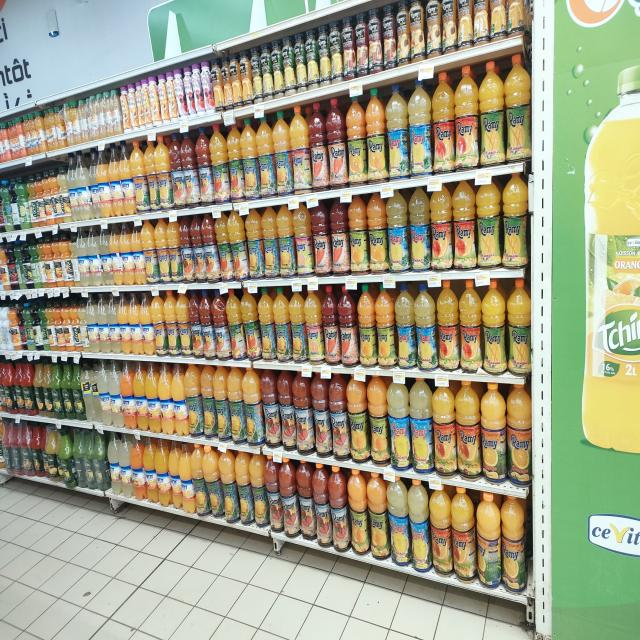ifruit_plastique: (48, 168, 62, 224), (57, 168, 71, 223), (26, 174, 40, 227), (41, 170, 54, 225), (59, 238, 73, 286), (34, 172, 46, 226), (62, 305, 76, 351), (70, 305, 83, 352), (28, 245, 42, 288), (9, 305, 22, 351), (54, 305, 66, 351), (52, 240, 64, 286), (44, 241, 56, 287), (69, 236, 80, 286), (46, 306, 58, 351), (78, 302, 88, 355), (1, 306, 13, 350), (32, 306, 44, 350), (24, 306, 36, 350), (22, 246, 34, 288), (39, 306, 50, 350), (38, 242, 48, 288)
ramy_plastique: (503, 53, 532, 165), (478, 59, 506, 168), (454, 64, 480, 172), (480, 383, 507, 484), (506, 382, 532, 484), (506, 279, 532, 379), (455, 381, 481, 481), (481, 278, 507, 377), (502, 174, 529, 269), (501, 494, 526, 594), (451, 487, 477, 583), (476, 494, 502, 589), (408, 378, 433, 474), (386, 378, 411, 472), (409, 76, 432, 177), (434, 71, 456, 174), (476, 180, 502, 267), (386, 81, 409, 179), (459, 280, 482, 375), (407, 478, 430, 572), (452, 180, 476, 270), (434, 381, 456, 478), (345, 92, 367, 186), (366, 471, 389, 559), (429, 484, 451, 576), (387, 477, 410, 564), (367, 375, 389, 465), (437, 281, 458, 375), (346, 374, 368, 463), (394, 284, 416, 372), (415, 284, 437, 372), (347, 468, 369, 556), (327, 96, 348, 185), (289, 105, 310, 193), (375, 284, 396, 371), (330, 373, 351, 460), (272, 108, 293, 194), (430, 184, 451, 270), (387, 190, 409, 272), (308, 100, 328, 189), (328, 466, 349, 550), (256, 113, 276, 199), (357, 284, 377, 368), (310, 374, 330, 458), (367, 192, 388, 272), (338, 285, 358, 368), (368, 87, 385, 184), (260, 367, 280, 448), (279, 458, 299, 539), (322, 286, 342, 366), (312, 462, 331, 546), (219, 447, 240, 523), (203, 448, 225, 520), (191, 443, 213, 514), (304, 286, 324, 364), (288, 286, 308, 364), (277, 370, 296, 452), (272, 288, 292, 365), (293, 371, 311, 456), (330, 197, 350, 273), (348, 196, 368, 272), (129, 142, 150, 214), (292, 203, 312, 278), (212, 367, 232, 442), (411, 185, 428, 273), (209, 124, 228, 202), (242, 366, 261, 444), (240, 117, 258, 199), (257, 288, 276, 364), (227, 208, 247, 280), (240, 288, 259, 363), (225, 289, 244, 363), (276, 204, 295, 278), (265, 456, 283, 534), (155, 132, 173, 210), (227, 367, 245, 444), (179, 131, 197, 207), (195, 127, 213, 203), (245, 209, 264, 281), (249, 451, 267, 527), (235, 450, 253, 525), (185, 366, 204, 437), (118, 142, 136, 215), (262, 207, 280, 278), (227, 121, 243, 200), (202, 212, 220, 282), (314, 198, 330, 276), (168, 131, 184, 208), (201, 367, 217, 441), (190, 214, 207, 283), (154, 218, 171, 286), (144, 135, 159, 212), (108, 144, 124, 216), (162, 292, 180, 356), (173, 364, 189, 436), (180, 216, 197, 283), (215, 216, 232, 282), (198, 290, 214, 360), (175, 290, 191, 360), (146, 364, 162, 434), (180, 442, 196, 512), (150, 294, 168, 356), (97, 145, 112, 218), (120, 362, 136, 430), (156, 438, 172, 506), (142, 219, 158, 283), (131, 220, 147, 284), (140, 292, 156, 356), (160, 366, 175, 434), (168, 442, 183, 510), (143, 436, 158, 503), (188, 289, 202, 359), (367, 8, 382, 73), (426, 1, 444, 55), (76, 151, 90, 220), (341, 15, 356, 79), (382, 5, 397, 69), (134, 364, 148, 430), (409, 3, 424, 64), (108, 223, 123, 284), (110, 363, 124, 428), (88, 226, 103, 286), (88, 148, 101, 217), (355, 12, 369, 76), (395, 2, 409, 66), (330, 20, 344, 84), (167, 217, 180, 285), (67, 154, 80, 222), (228, 53, 244, 108), (108, 436, 123, 493), (119, 223, 133, 284), (129, 294, 143, 355), (98, 365, 112, 426), (210, 60, 226, 113), (441, 0, 457, 53), (99, 226, 113, 285), (77, 229, 91, 288), (457, 0, 473, 51), (86, 296, 100, 354), (250, 48, 264, 105), (306, 29, 319, 90), (240, 50, 254, 106), (295, 34, 308, 93), (118, 294, 131, 353), (122, 435, 134, 498), (260, 46, 274, 100), (220, 57, 234, 111), (200, 60, 214, 113), (108, 294, 120, 353), (284, 36, 296, 94), (98, 296, 110, 354), (473, 2, 489, 45), (147, 77, 162, 122), (273, 41, 285, 97), (134, 439, 145, 499), (491, 0, 506, 43), (192, 62, 204, 115), (320, 23, 330, 86), (141, 78, 153, 125), (120, 85, 132, 132), (158, 74, 170, 120), (184, 66, 195, 115), (166, 70, 177, 119), (509, 0, 523, 37), (128, 84, 139, 130), (174, 69, 184, 118), (135, 82, 145, 128)
tazej_plastique: (59, 429, 77, 487), (72, 426, 87, 488), (21, 360, 37, 415), (2, 361, 18, 414), (47, 424, 61, 484), (51, 362, 65, 419), (33, 356, 46, 416), (13, 361, 27, 414), (30, 424, 44, 476), (62, 361, 74, 421), (84, 431, 96, 491), (94, 434, 107, 489), (2, 421, 15, 475), (72, 362, 84, 420), (43, 363, 55, 418), (22, 424, 33, 476), (12, 423, 23, 475), (41, 424, 50, 479)
tchina_plastique: (34, 111, 46, 155), (22, 112, 33, 154), (45, 110, 56, 151), (56, 107, 66, 151), (29, 114, 39, 154), (1, 123, 11, 161), (10, 121, 20, 159)
